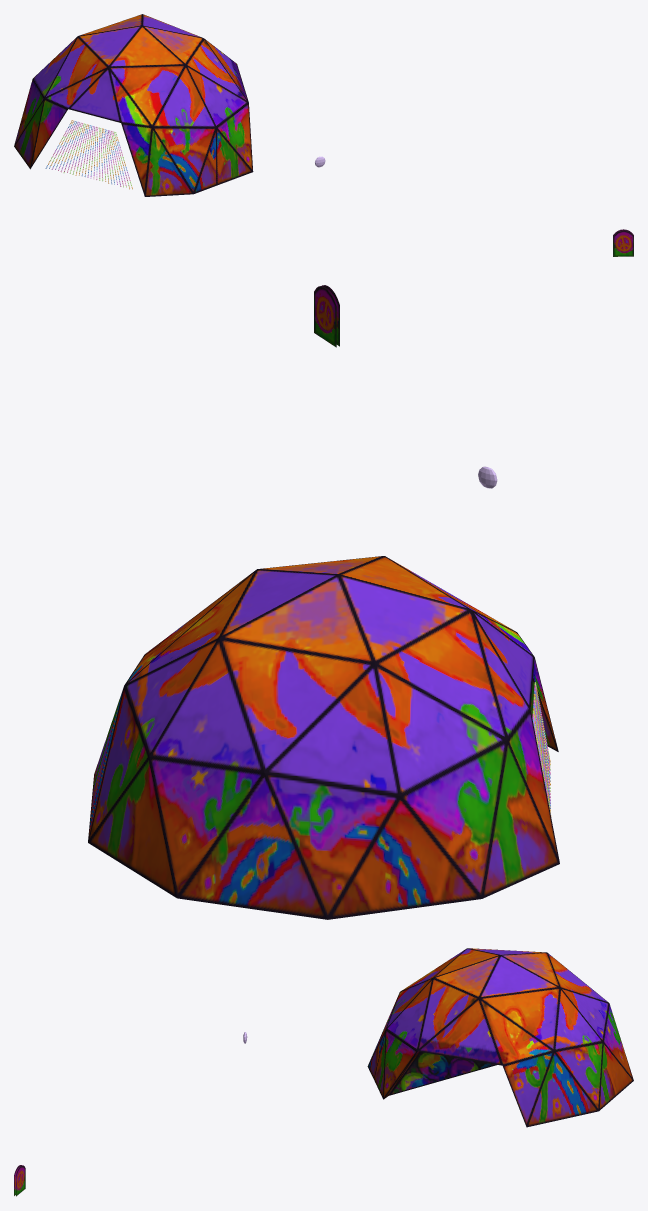
The model's file is fillmore.glb.
3 renders of one model, top to bottom at view 1: azimuth 30°, elevation 25°; view 2: azimuth 150°, elevation 25°; view 3: azimuth 270°, elevation 25°, orthographic. The views are drawn at different scales.
Parts seen in each view (by area): view 1: fillmore_pintura_0, fillmore_neon_0; view 2: fillmore_pintura_0, fillmore_neon_0; view 3: fillmore_pintura_0.
Boxes of the visible parts, left/top/right/bottom form: fillmore_pintura_0: left=14, top=14, right=633, bottom=256; fillmore_neon_0: left=45, top=120, right=325, bottom=189; fillmore_pintura_0: left=88, top=285, right=559, bottom=919; fillmore_neon_0: left=478, top=466, right=551, bottom=816; fillmore_pintura_0: left=14, top=948, right=633, bottom=1196.
Size of the model in its own units: 25.38 by 7.89 by 37.11.
2 materials, 1 textured.
